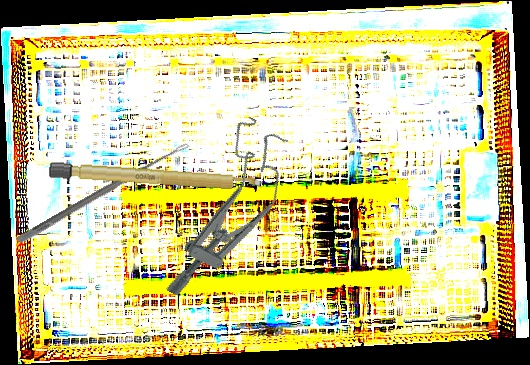Scalpel Handle: (47, 161, 266, 194)
Speculum: (153, 113, 305, 316)
Surgical Spoon: (15, 139, 191, 246)
